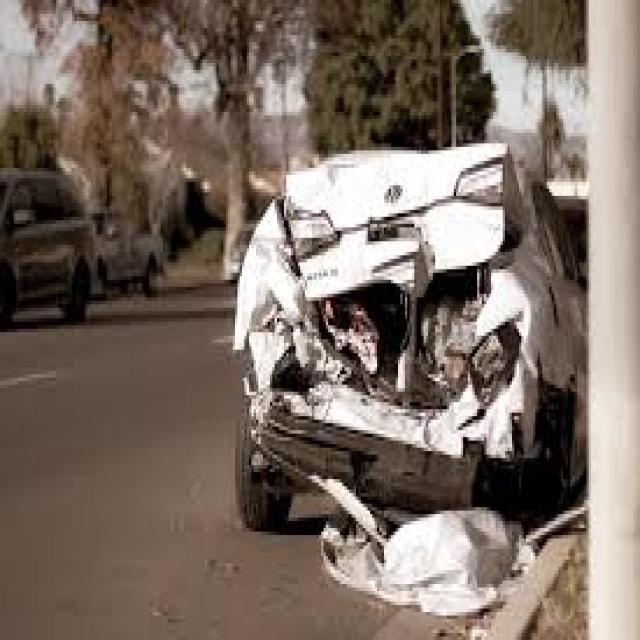accident: (222, 144, 576, 553)
